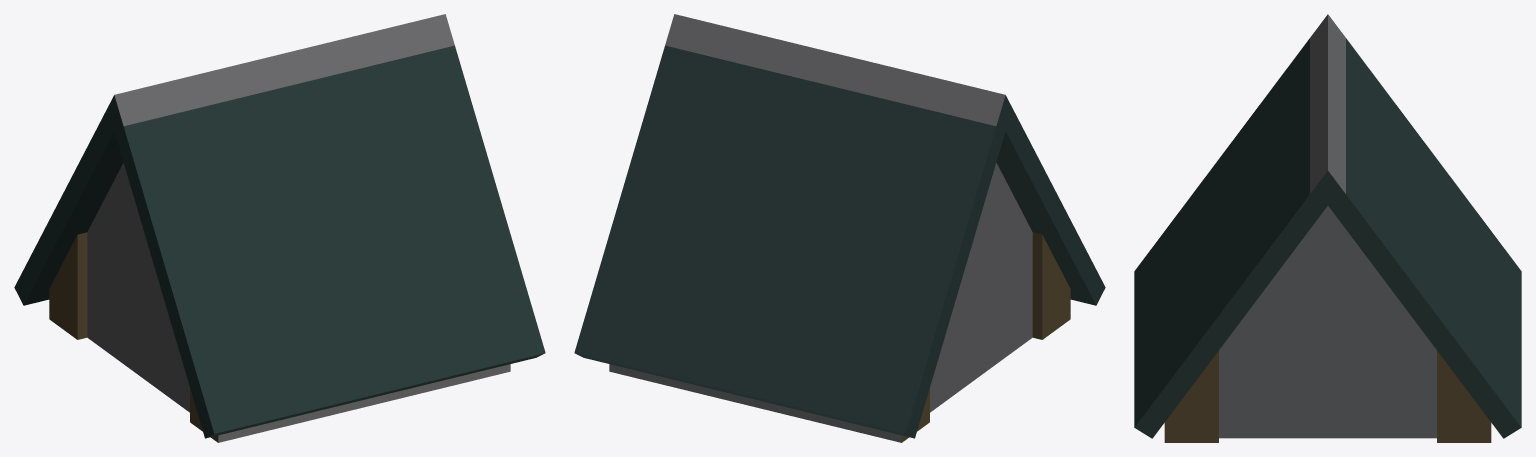
The model's file is Roof_Straight_Green_01.obj.
3 renders of one model, left to right at view 1: azimuth 30°, elevation 25°; view 2: azimuth 150°, elevation 25°; view 3: azimuth 270°, elevation 25°, orthographic. The views are drawn at different scales.
Visible parts, largest first — view 1: Mesh1_Roof_Straight_Green_Model; view 2: Mesh1_Roof_Straight_Green_Model; view 3: Mesh1_Roof_Straight_Green_Model.
Part boxes in pixels (x1,y1,x2,y2): Mesh1_Roof_Straight_Green_Model: (14, 14, 545, 442); Mesh1_Roof_Straight_Green_Model: (574, 14, 1105, 442); Mesh1_Roof_Straight_Green_Model: (1134, 14, 1521, 442).
Size of the model in its own units: 3.4 by 2.86 by 3.56.
